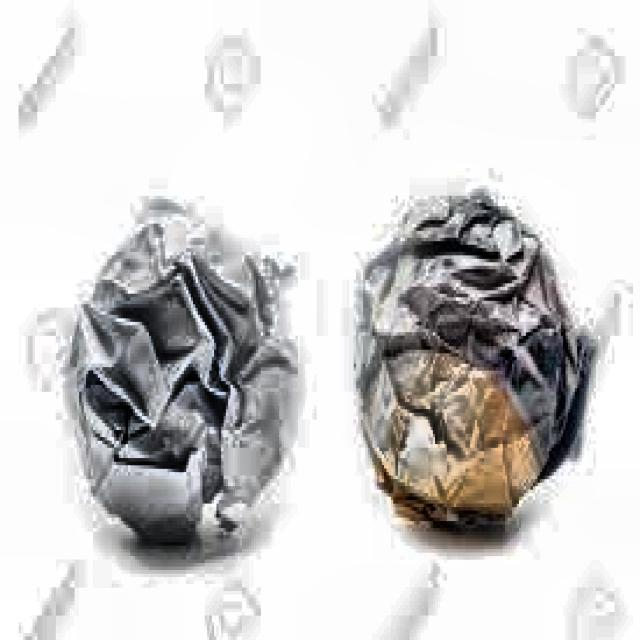Foil: (355, 175, 601, 542)
Paper: (43, 177, 324, 536)
